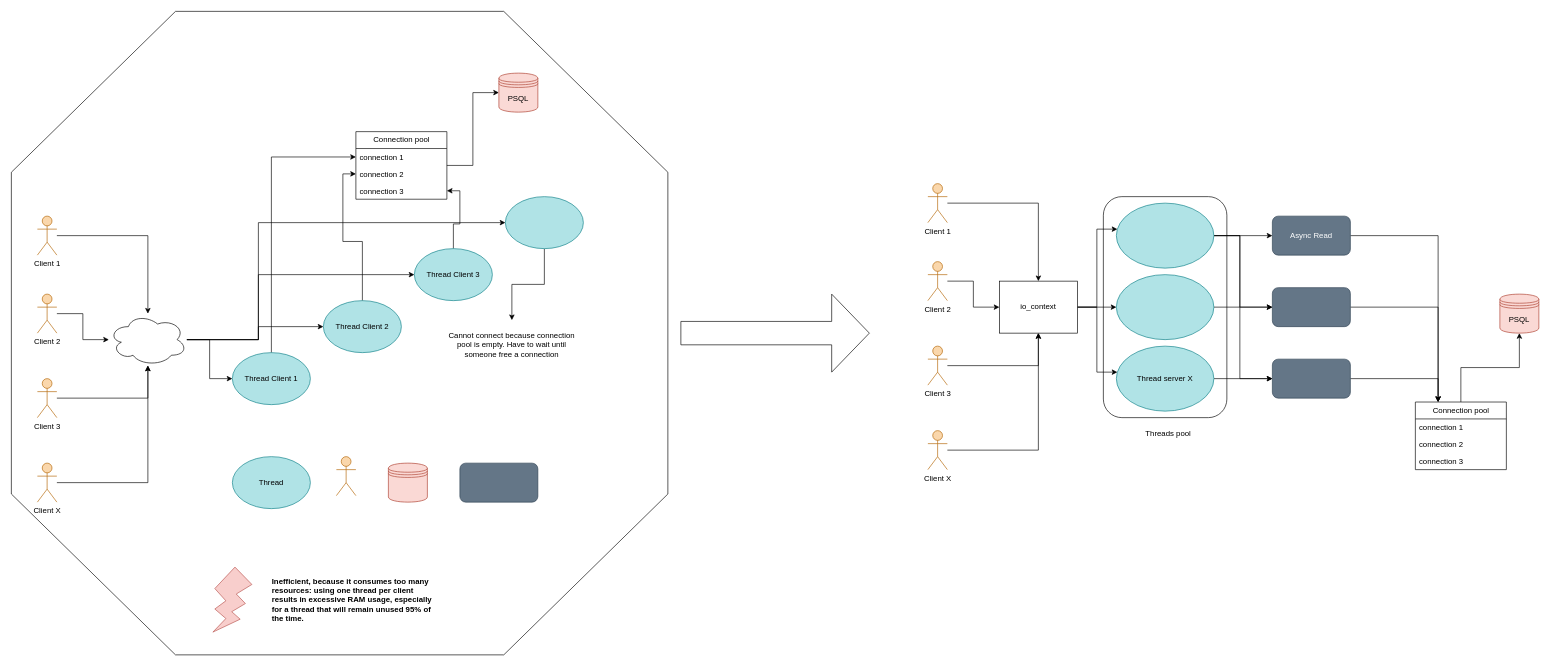
This 1550x666 diagram has some shape labels left out. The shapes that lost their labels are listed below. From the top down, each one's box as (x1, y1, x2, y2) in pixels, then its label:
(505, 196, 583, 249): Thread Client X
(1116, 202, 1214, 268): Thread server 1
(1116, 274, 1214, 340): Thread server 2
(1272, 287, 1350, 327): Async Write
(108, 313, 187, 366): Server
(680, 293, 869, 372): Solution
(1272, 358, 1350, 398): Async etc
(336, 456, 356, 496): Client
(388, 462, 427, 502): DB
(459, 462, 538, 502): Method
